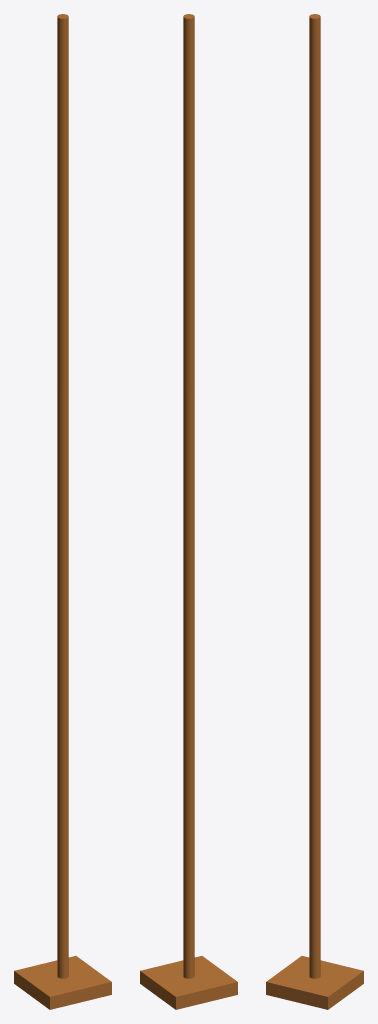
File: roof.kit.lightning_rod.glb
3 renders of one model, left to right at view 1: azimuth 30°, elevation 25°; view 2: azimuth 210°, elevation 25°; view 3: azimuth 330°, elevation 25°, orthographic.
Parts seen in each view (by area): view 1: main__copper; view 2: main__copper; view 3: main__copper.
Boxes of the visible parts, left/top/right/bottom form: main__copper: left=14, top=14, right=111, bottom=1009; main__copper: left=140, top=14, right=237, bottom=1009; main__copper: left=266, top=14, right=363, bottom=1009.
Bounding box in the file's own units: 0.1 × 1.5 × 0.1.
